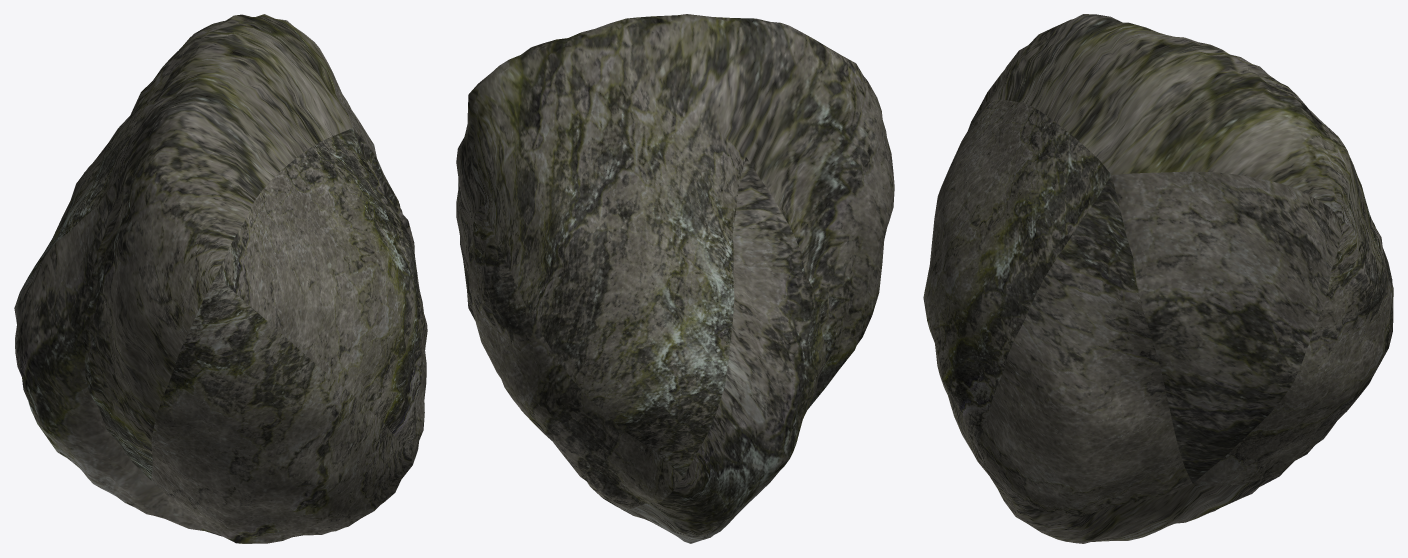
The model's file is Rock4.fbx.
3 renders of one model, left to right at view 1: azimuth 30°, elevation 25°; view 2: azimuth 150°, elevation 25°; view 3: azimuth 270°, elevation 25°, orthographic. The views are drawn at different scales.
Parts seen in each view (by area): view 1: rock.003; view 2: rock.003; view 3: rock.003.
Boxes of the visible parts, x1,y1,x2,y2 form: rock.003: (14,14,427,543); rock.003: (456,14,894,543); rock.003: (923,14,1393,543).
Bounding box in the file's own units: 71.61 × 101 × 87.9.
